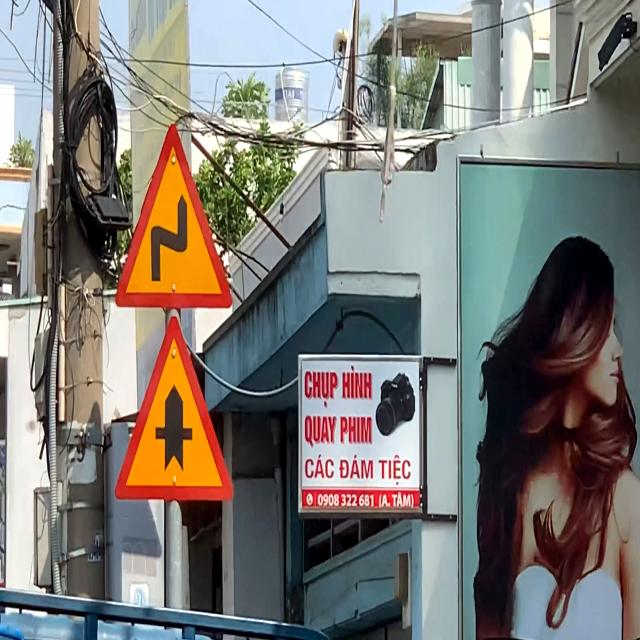W.202b: (110, 107, 240, 317)
W.207a: (111, 308, 241, 512)
